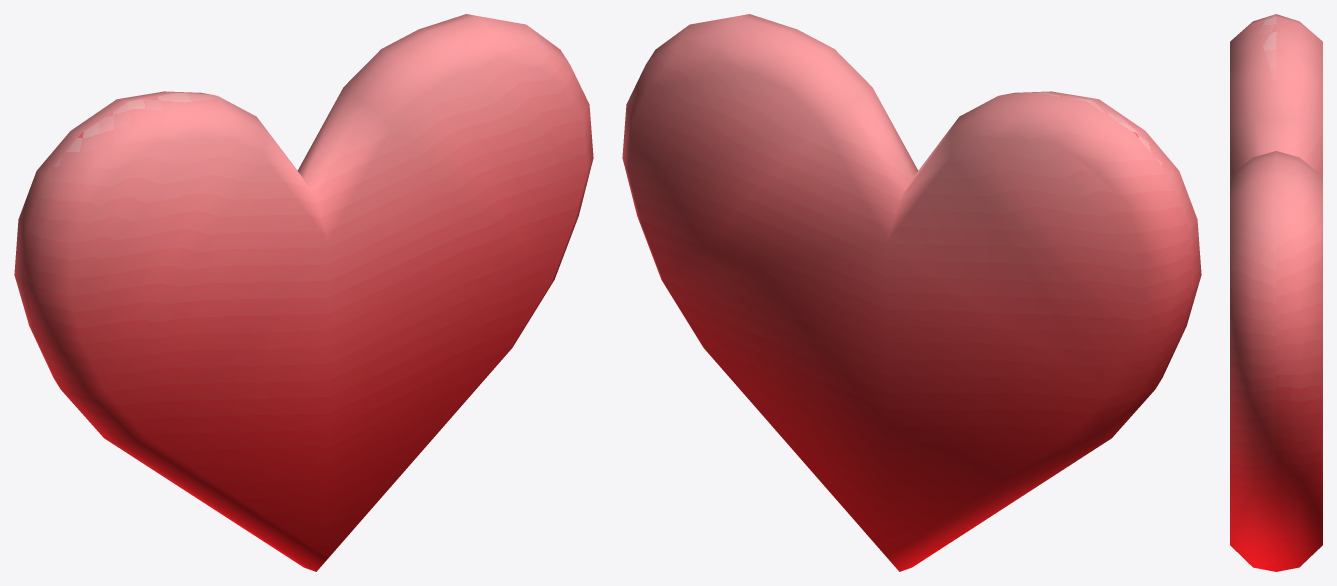
File: Haert01.fbx
3 renders of one model, left to right at view 1: azimuth 30°, elevation 25°; view 2: azimuth 150°, elevation 25°; view 3: azimuth 270°, elevation 25°, orthographic. The views are drawn at different scales.
Parts seen in each view (by area): view 1: Haert01; view 2: Haert01; view 3: Haert01.
Part boxes in pixels (x1,y1,x2,y2): Haert01: [14, 14, 593, 571]; Haert01: [622, 14, 1201, 571]; Haert01: [1230, 14, 1322, 571].
Bounding box in the file's own units: 0.554 × 0.4773 × 0.0845.
